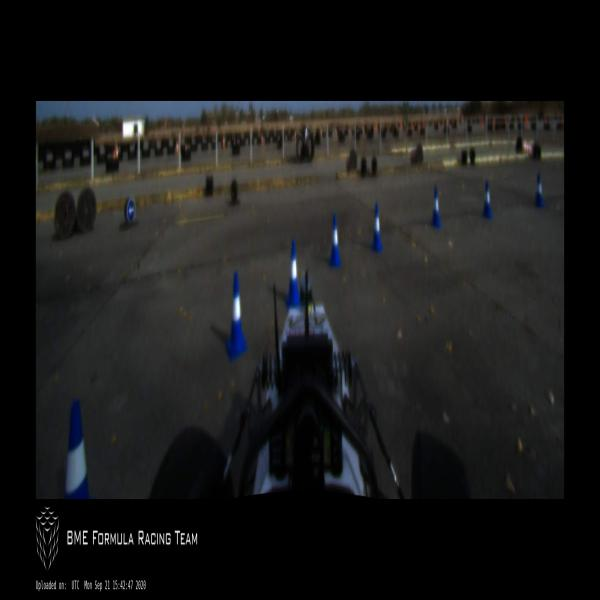blue_cone: (64, 401, 90, 498), (224, 268, 248, 361), (285, 243, 301, 304), (370, 202, 384, 254), (328, 212, 341, 268), (429, 184, 442, 228), (481, 180, 493, 218), (534, 174, 544, 205)
